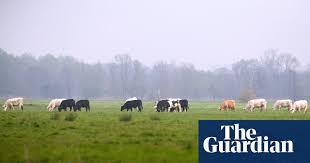cow: (244, 99, 268, 114), (119, 99, 144, 113), (1, 97, 24, 112), (153, 99, 177, 113), (46, 98, 68, 113), (57, 99, 77, 113), (272, 99, 293, 112), (290, 99, 309, 113), (72, 99, 91, 112), (218, 99, 236, 112), (174, 99, 189, 114)
